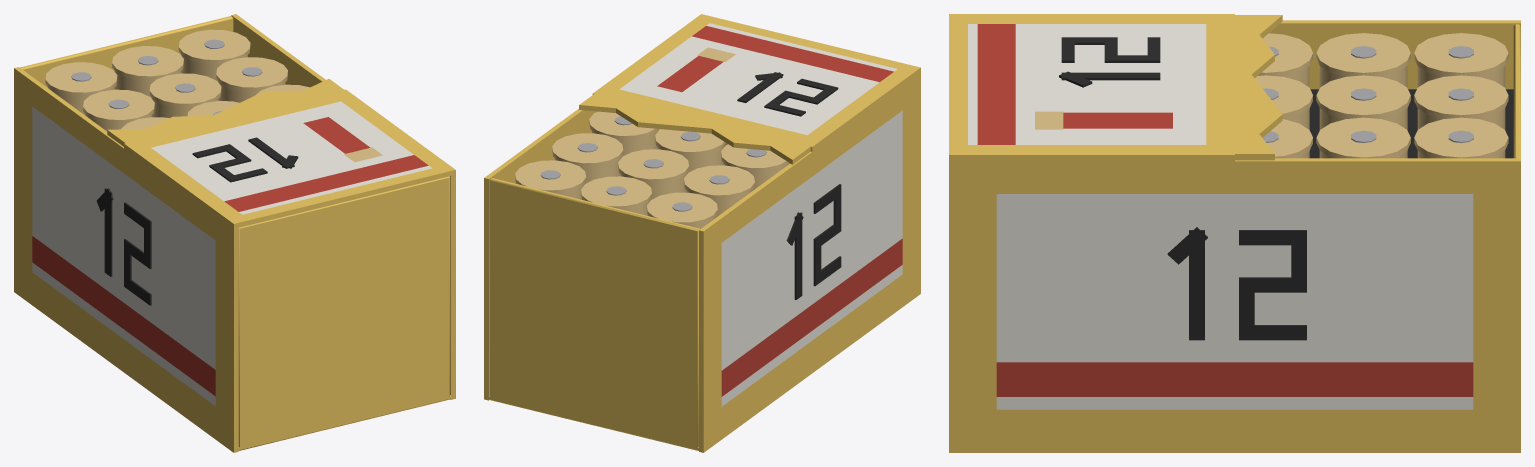
The model's file is ammo_12ga.glb.
The picture shows the model from 3 angles, left to right: view 1: azimuth 30°, elevation 25°; view 2: azimuth 150°, elevation 25°; view 3: azimuth 270°, elevation 25°; orthographic projection. The views are drawn at different scales.
Parts seen in each view (by area): view 1: body; view 2: body; view 3: body.
Boxes of the visible parts, left/top/right/bottom form: body: left=14, top=14, right=455, bottom=452; body: left=484, top=14, right=920, bottom=452; body: left=949, top=14, right=1520, bottom=452.
Bounding box in the file's own units: 0.071 × 0.0695 × 0.12.
